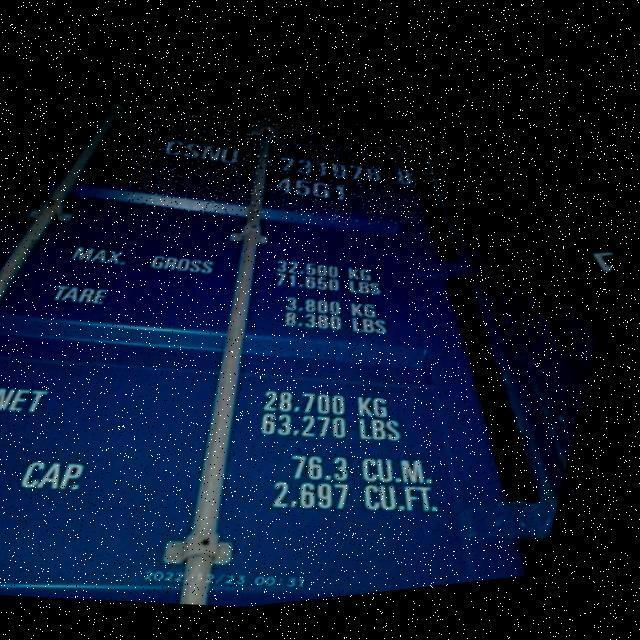container_number_h: (122, 89, 455, 264)
